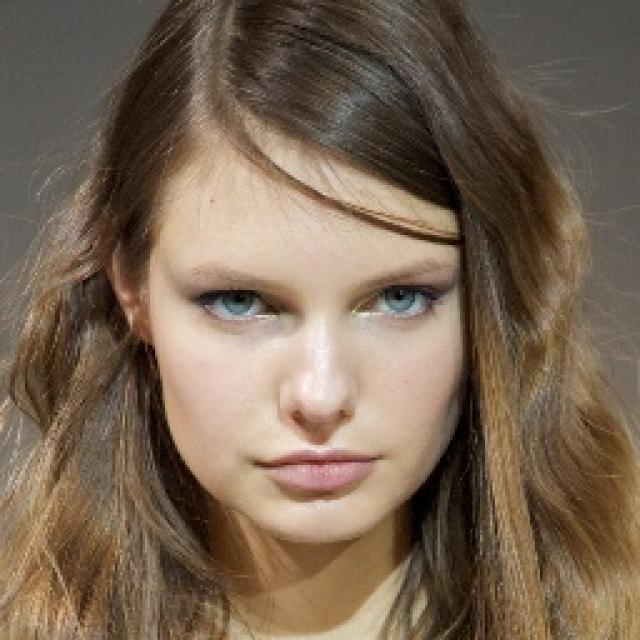earlobe: (121, 291, 153, 347)
eye: (194, 286, 281, 322), (350, 286, 440, 316)
nose: (280, 412, 354, 443)
wholeear: (103, 240, 155, 346)
